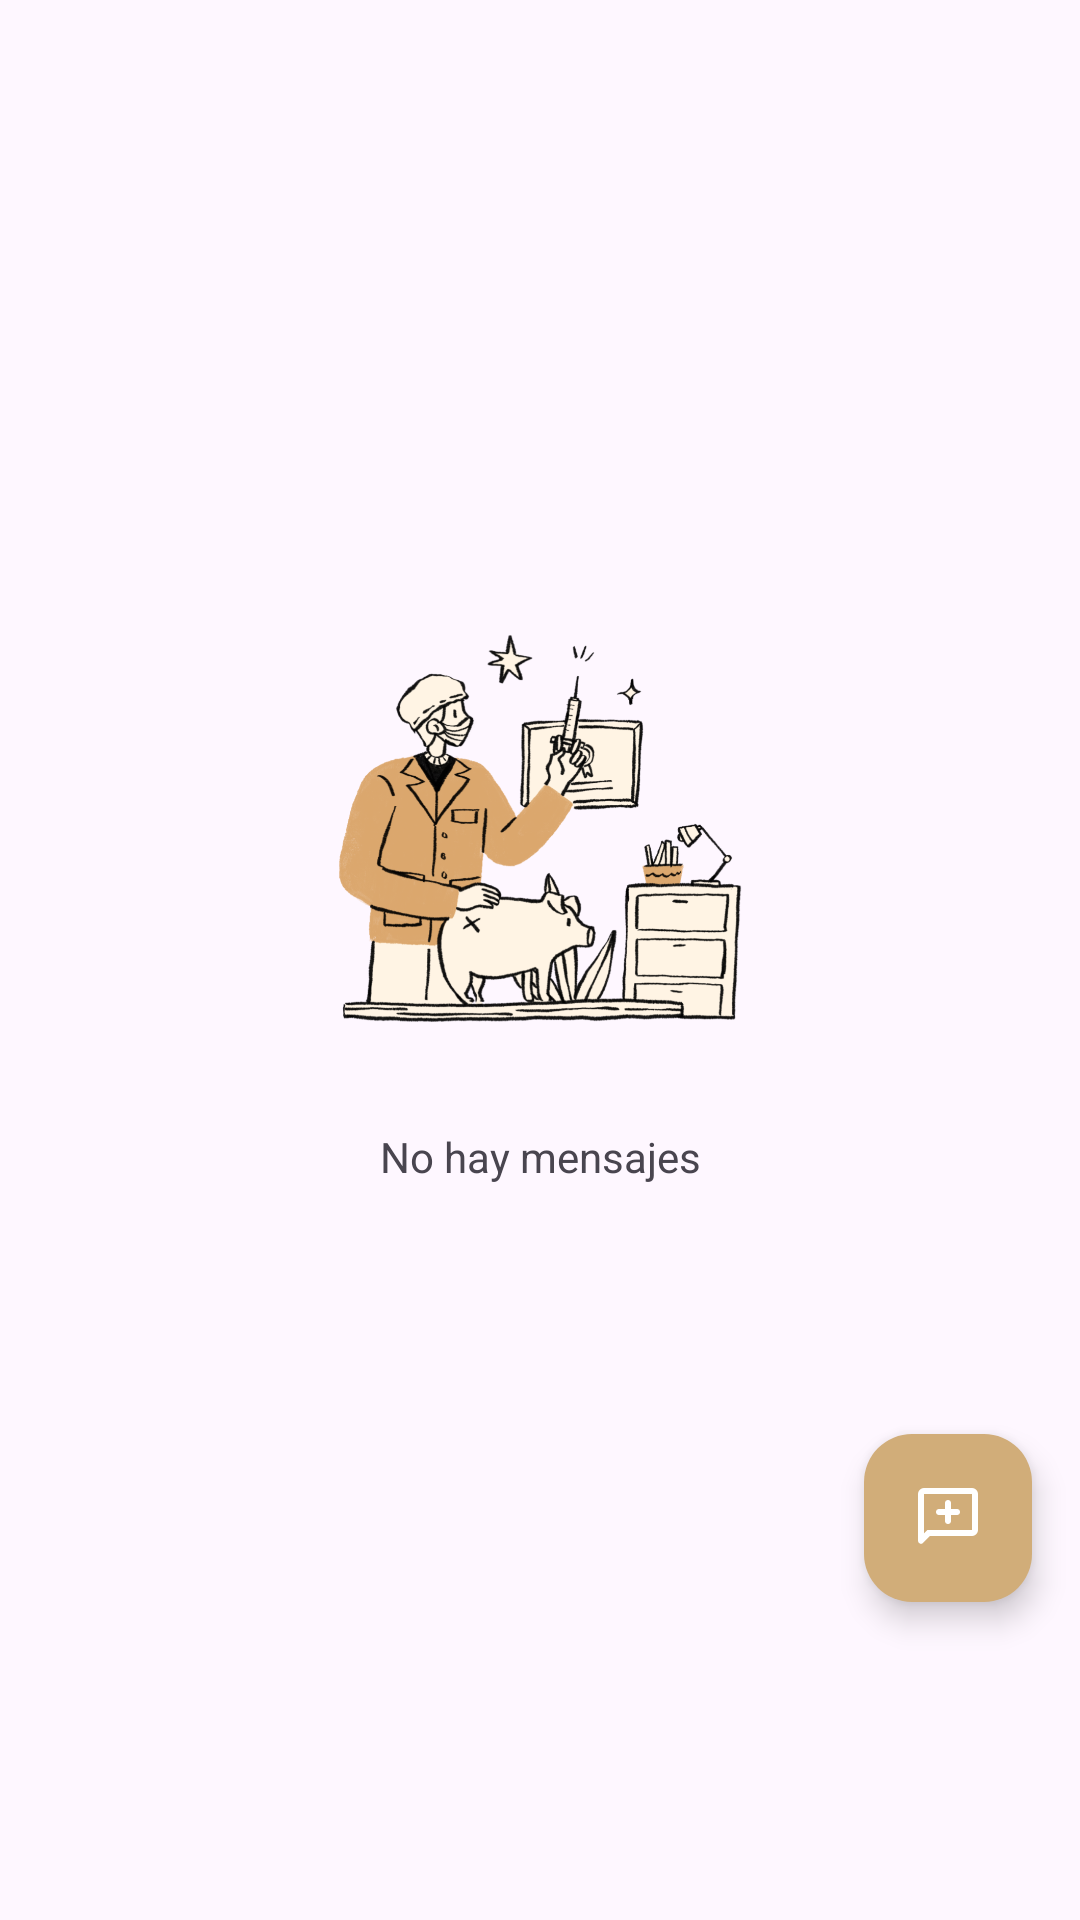

Screen size 1080px x 1920px. Icon name, then its center in pixels as point (x, y):
Nuevo chat: point (948, 1518)
